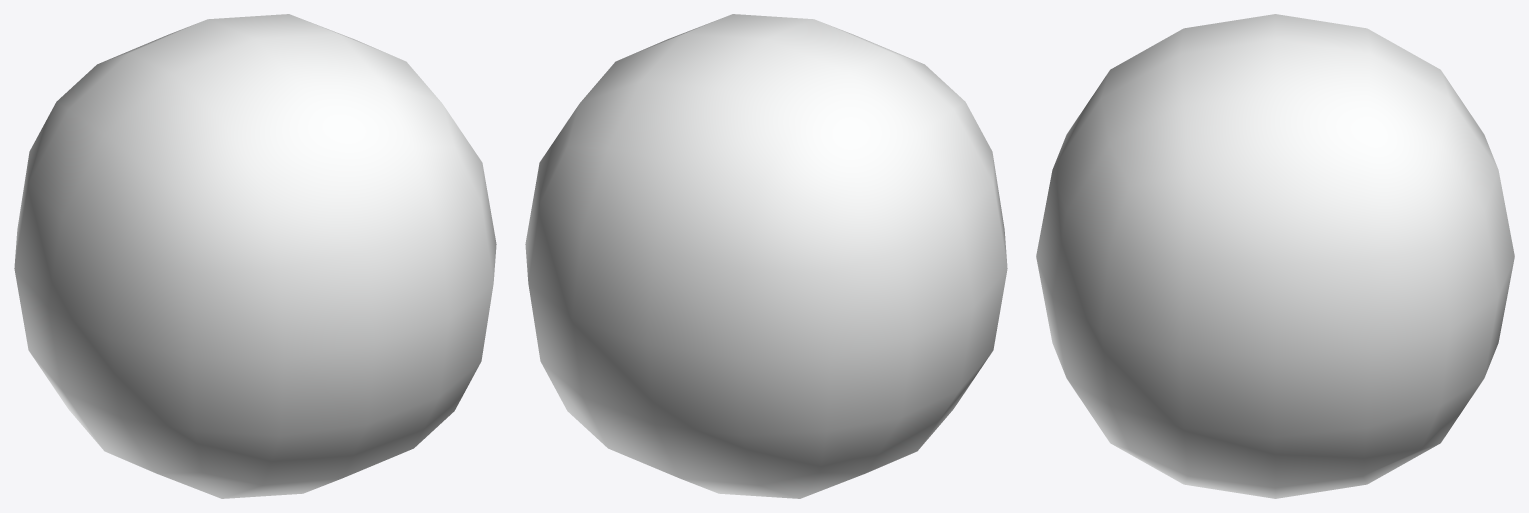
Rendered from Projectile.fbx.
3 renders of one model, left to right at view 1: azimuth 30°, elevation 25°; view 2: azimuth 150°, elevation 25°; view 3: azimuth 270°, elevation 25°, orthographic.
Visible parts, largest first — view 1: Projectile; view 2: Projectile; view 3: Projectile.
Part boxes in pixels (x1,y1,x2,y2): Projectile: (14,14,496,498); Projectile: (525,14,1007,498); Projectile: (1036,14,1514,498).
Size of the model in its own units: 140 by 140 by 140.
